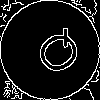Q: (25, 25, 87, 84)
